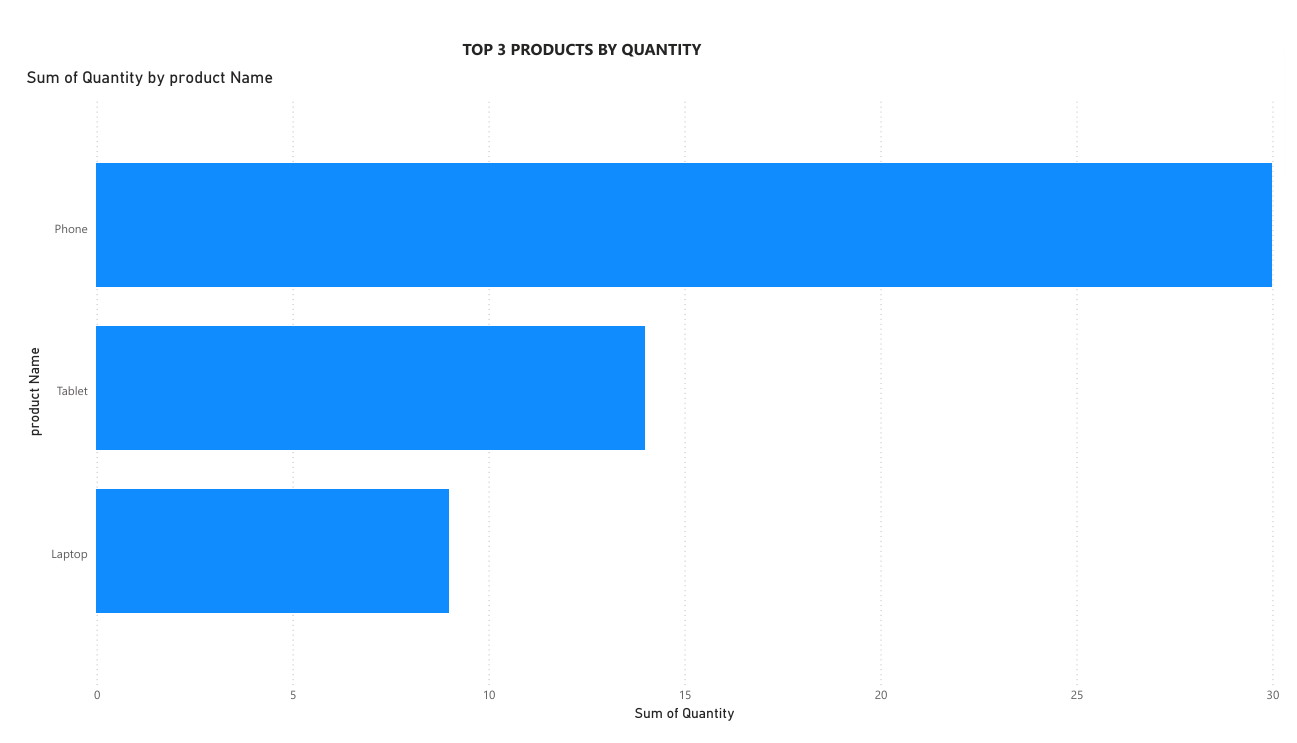

The dashboard page shown, as its layout file describes it:
{"tool":"powerbi","page":{"name":"Top3 products by quantity","canvas":[1280,720],"ordinal":4},"visuals":[{"type":"clusteredBarChart","fields":{"Category":["sales_data. product Name"],"Y":["Sum(sales_data.Quantity)"]},"box":[0,52,1280,668],"z":0},{"type":"textbox","box":[418,18,300,34],"z":1}]}

Visuals, with their boxes in screenshot pixels (x1, y1, x2, y2), scaled from the page's 1280x720 canvas onto the 1297x743 screenshot:
clusteredBarChart - sales_data. product Name x Sum(sales_data.Quantity): Rect(0, 54, 1296, 742)
textbox: Rect(424, 19, 728, 54)
